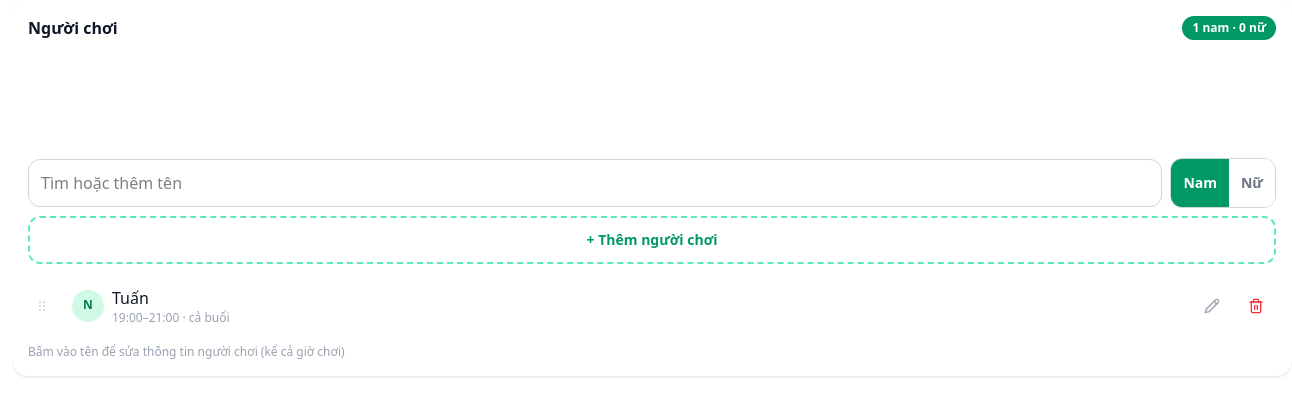
Test case: swipe no longer reveals a Sửa button — only Xóa
Press the mouse on the element with test id "swipe-row-1": coordinates (652, 306) [28,276,1276,336]
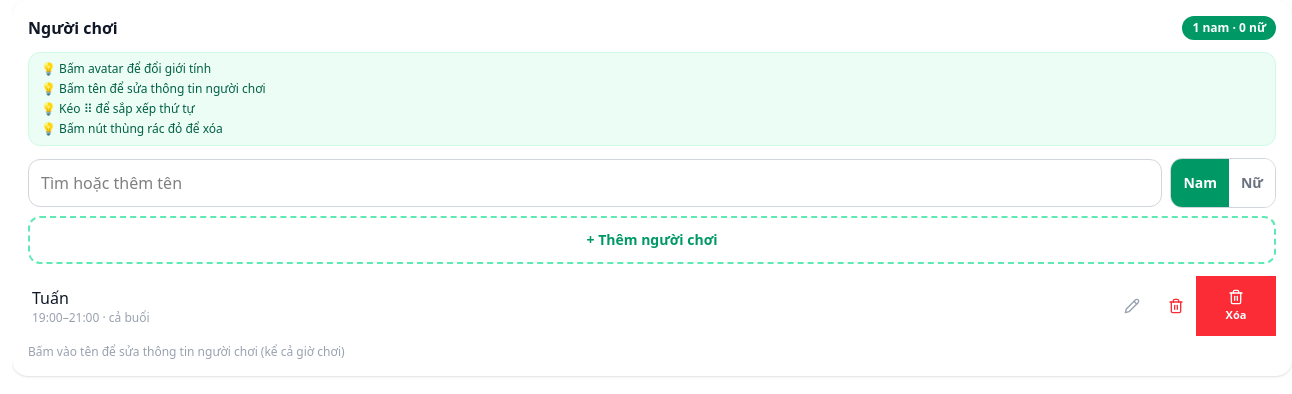
Check: the button with aria-label "Xóa nhanh Tuấn" is shown, box [1196,276,1276,336]
